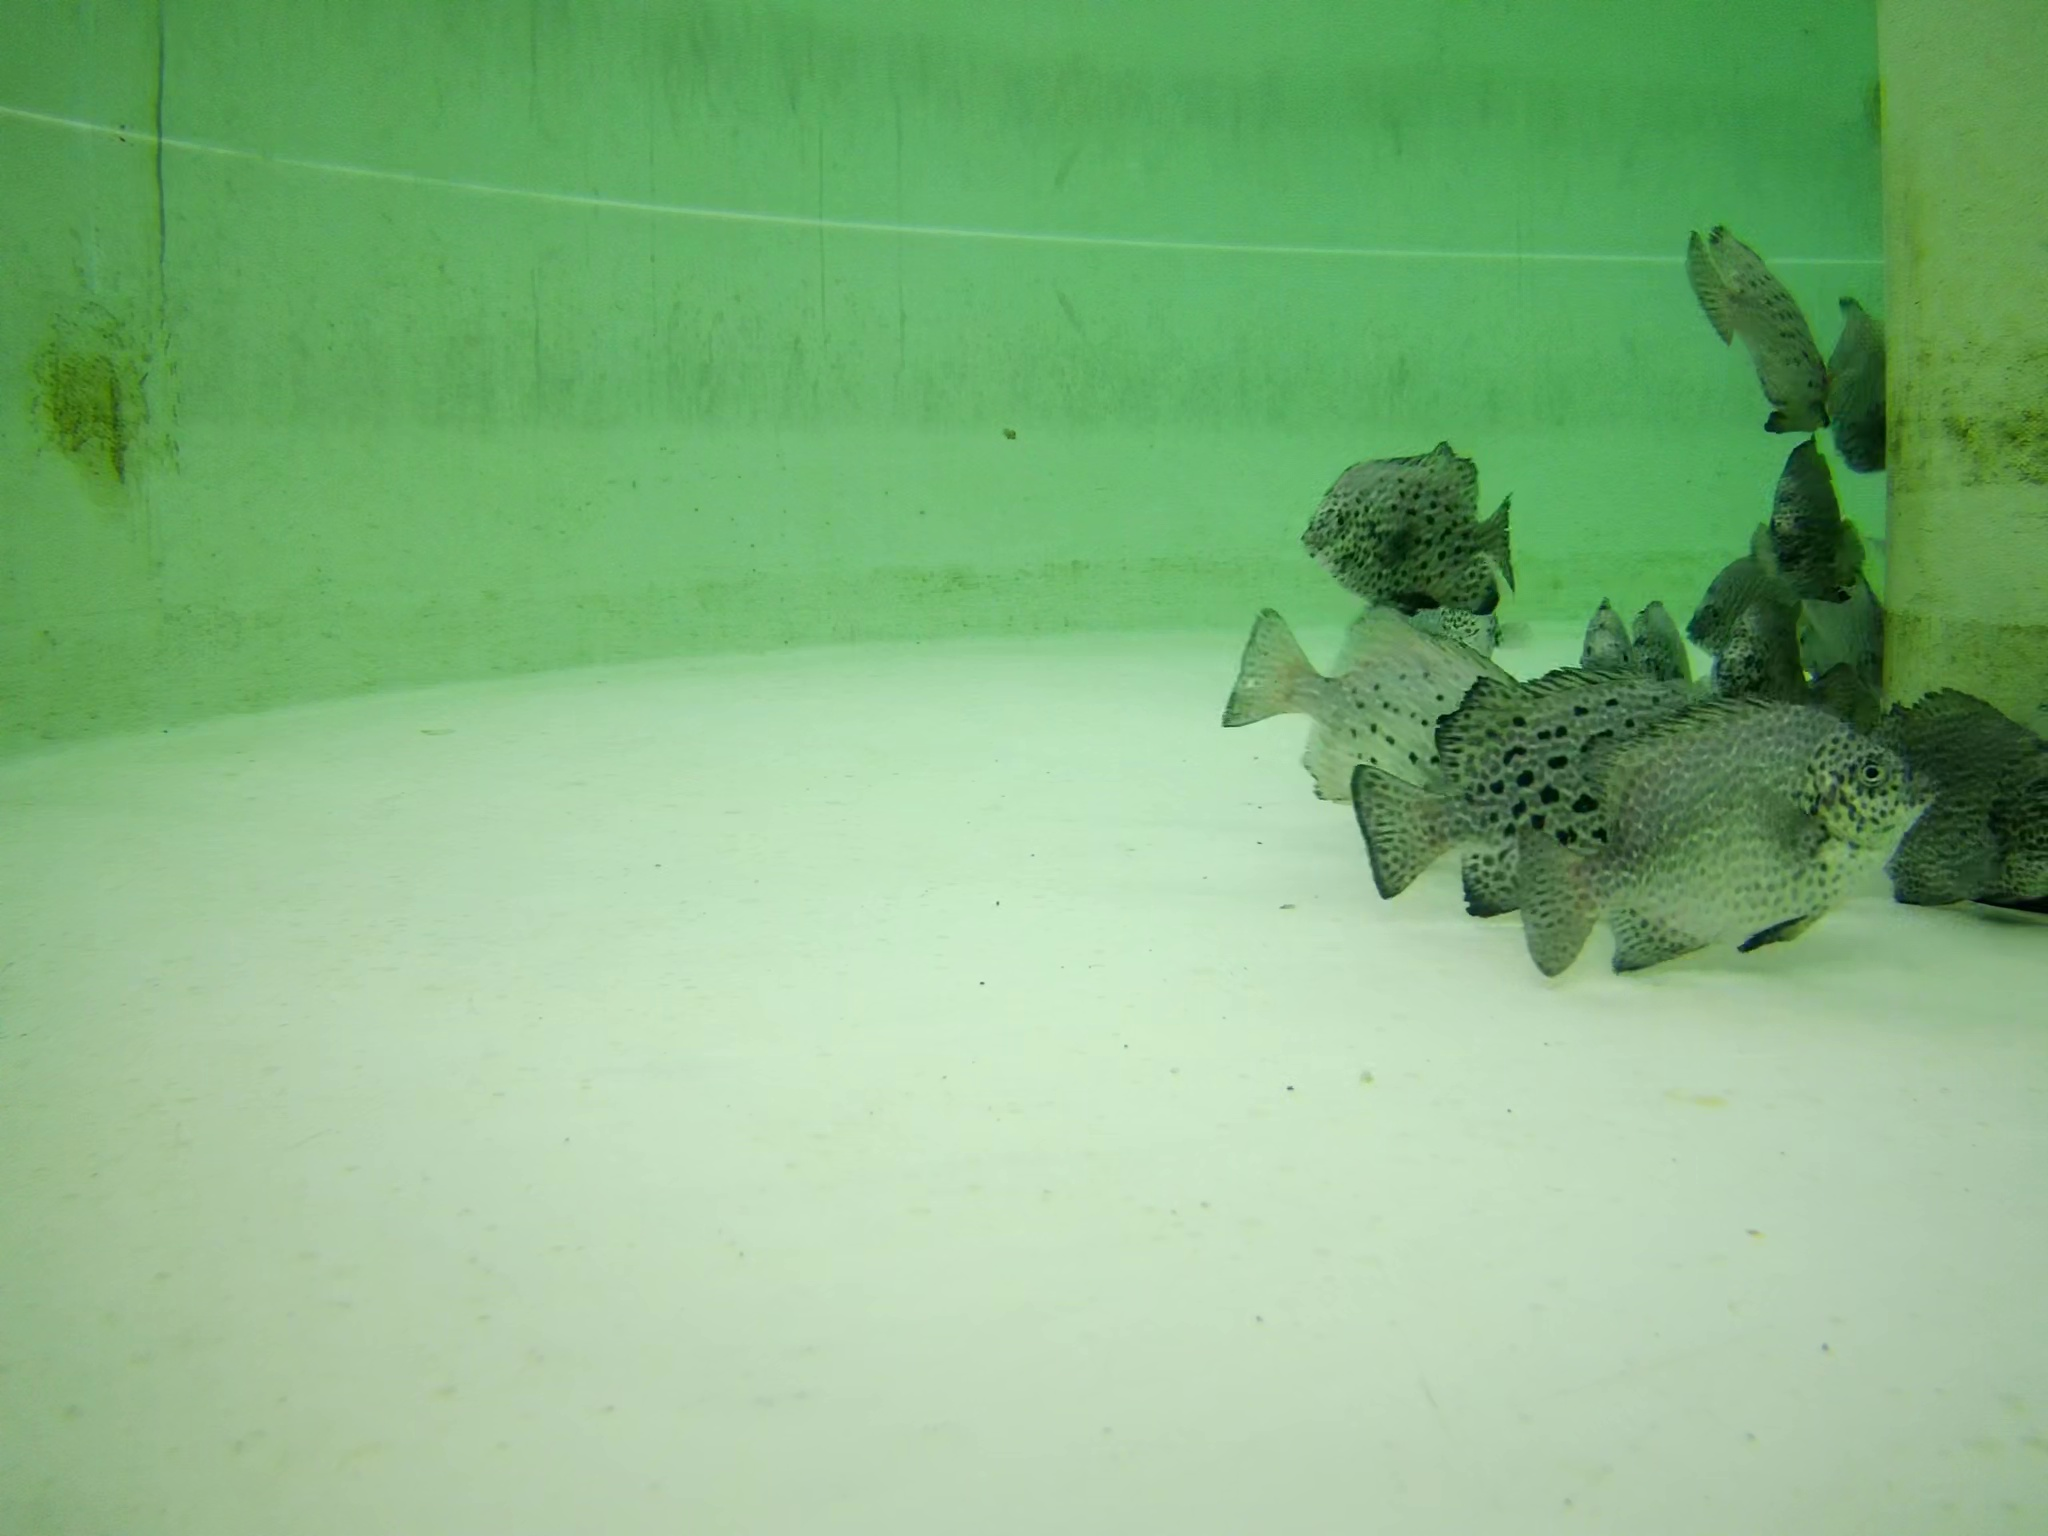fish: (1513, 697, 1932, 973), (1326, 666, 1735, 884), (1224, 597, 1517, 805), (1308, 442, 1517, 608), (1903, 679, 2048, 904), (1690, 218, 1817, 429), (1771, 432, 1866, 595), (1830, 300, 1895, 476), (1680, 549, 1780, 653), (1721, 599, 1804, 703), (1627, 600, 1687, 724), (1576, 592, 1632, 713)
